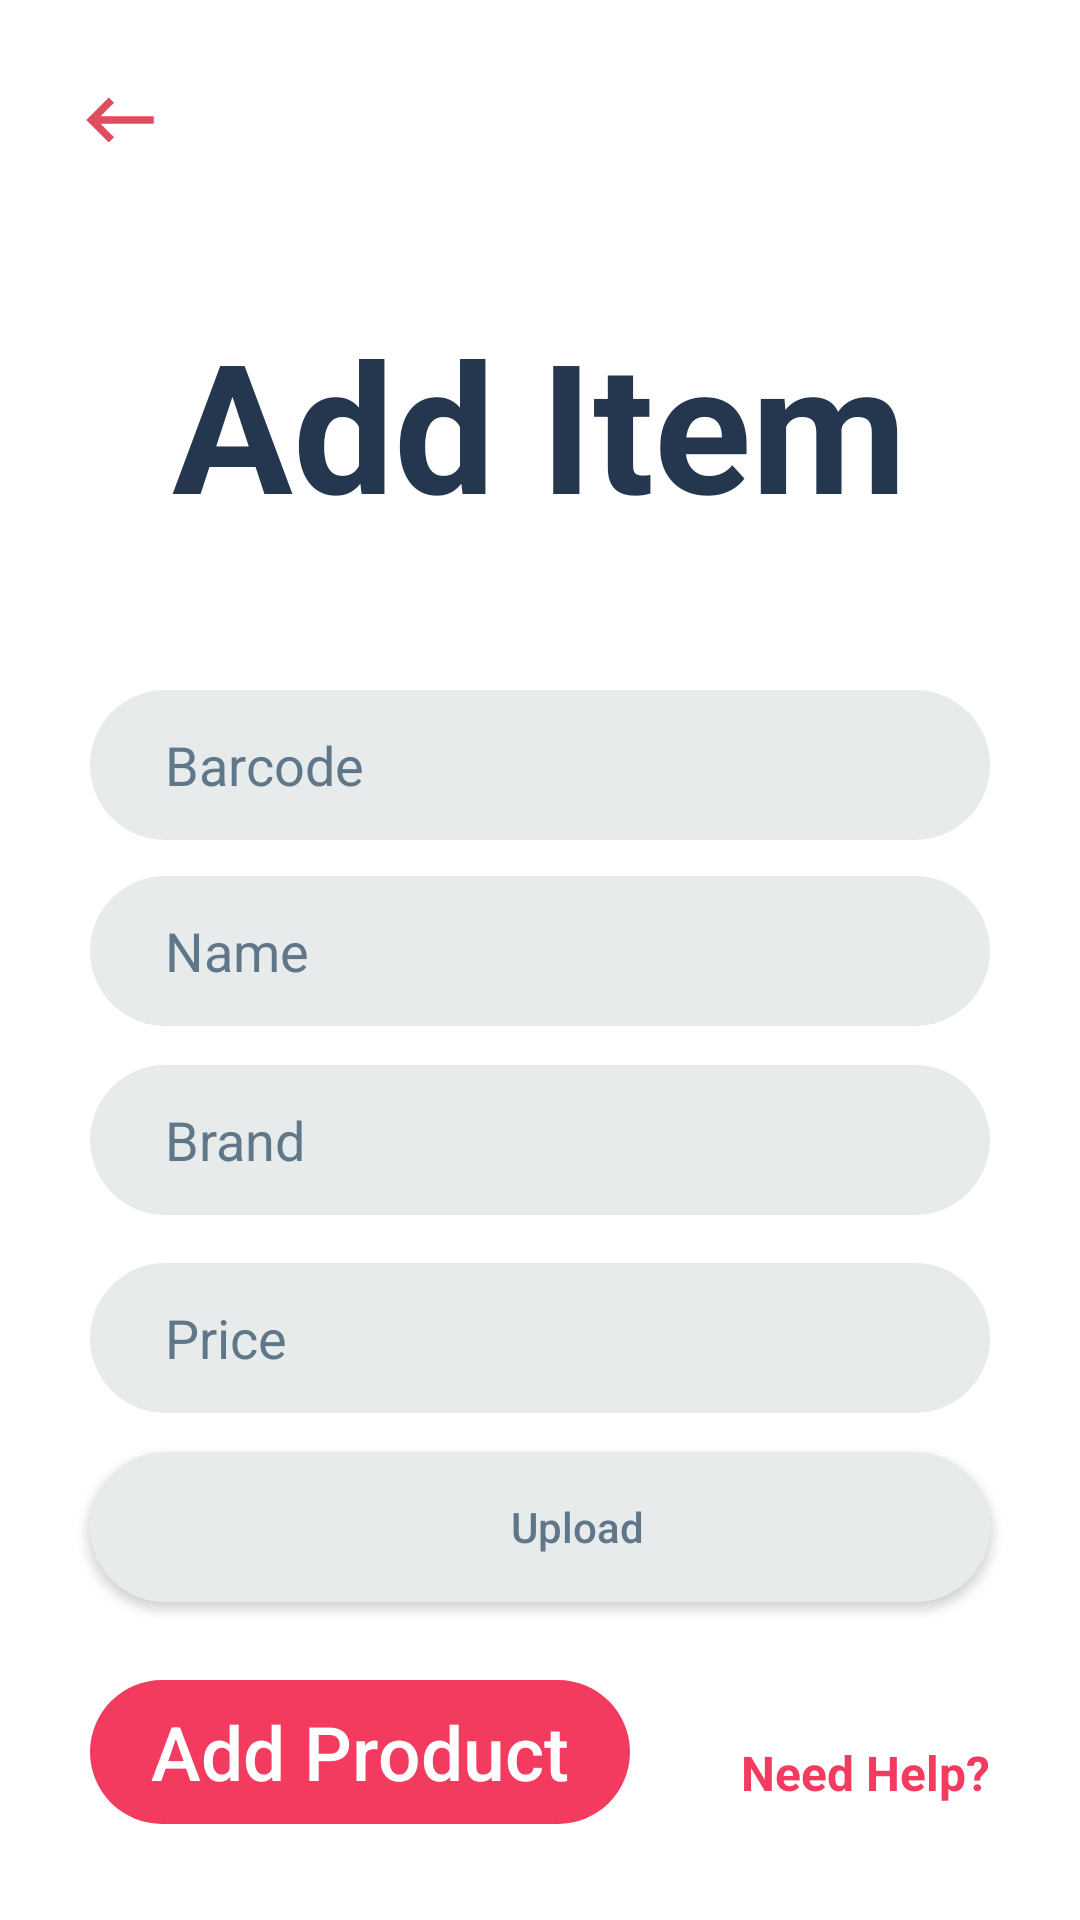

Point at icon controls on the screen. Image size 1080×1920, points as point (x, y).
keyboard backspace: point (120, 120)
